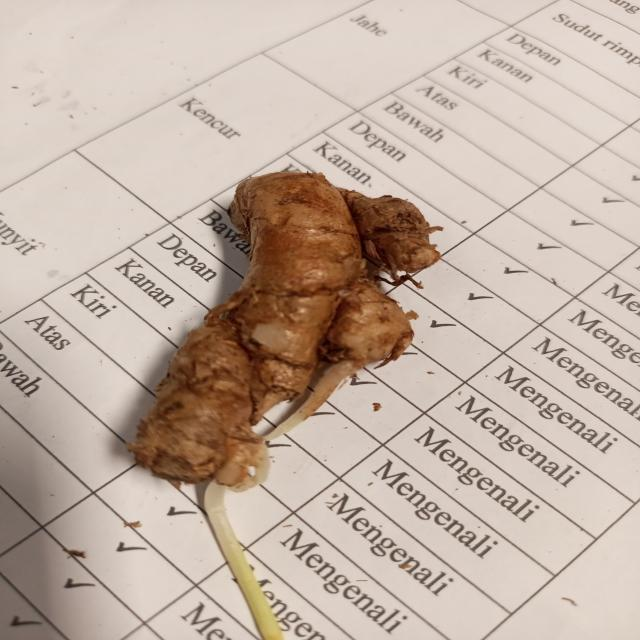ginger: (145, 164, 389, 482)
